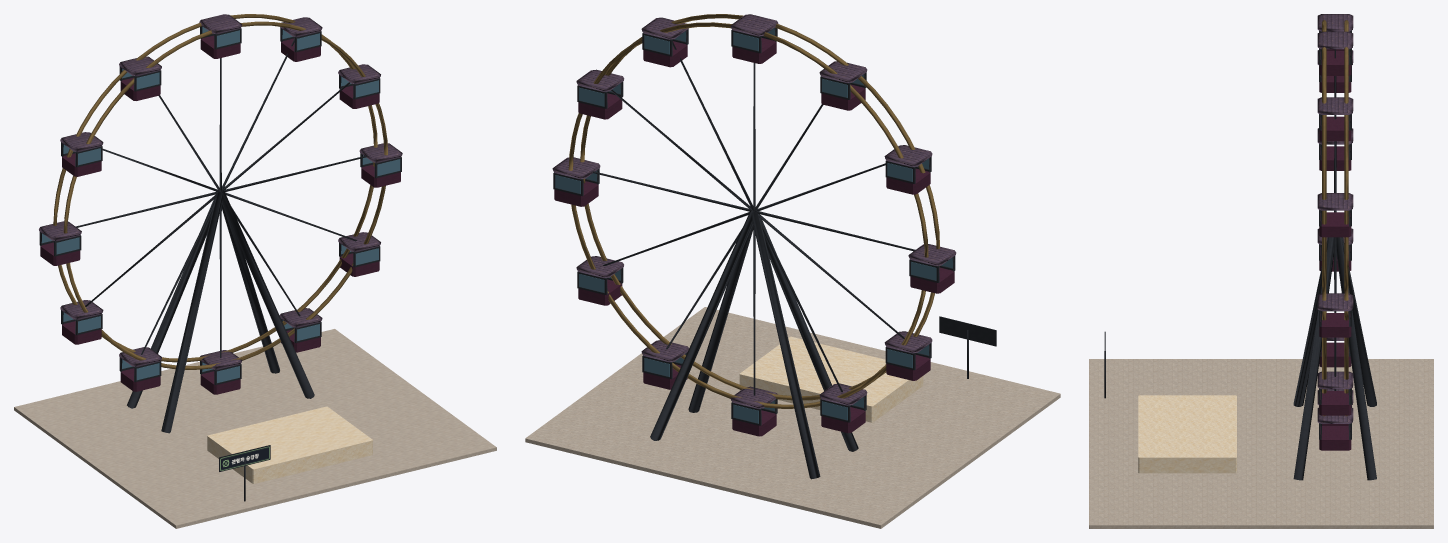
File: explore3d__ferris_platform.glb
The picture shows the model from 3 angles, left to right: view 1: azimuth 30°, elevation 25°; view 2: azimuth 150°, elevation 25°; view 3: azimuth 270°, elevation 25°; orthographic projection. The views are drawn at different scales.
Visible parts, largest first — view 1: Rebuilt_ferris_platform; view 2: Rebuilt_ferris_platform; view 3: Rebuilt_ferris_platform.
Boxes of the visible parts, x1,y1,x2,y2 form: Rebuilt_ferris_platform: [14, 14, 496, 528]; Rebuilt_ferris_platform: [525, 14, 1060, 528]; Rebuilt_ferris_platform: [1089, 14, 1433, 528].
Size of the model in its own units: 17.5 by 18.26 by 14.
Materials: 8 (7 with a texture image).
